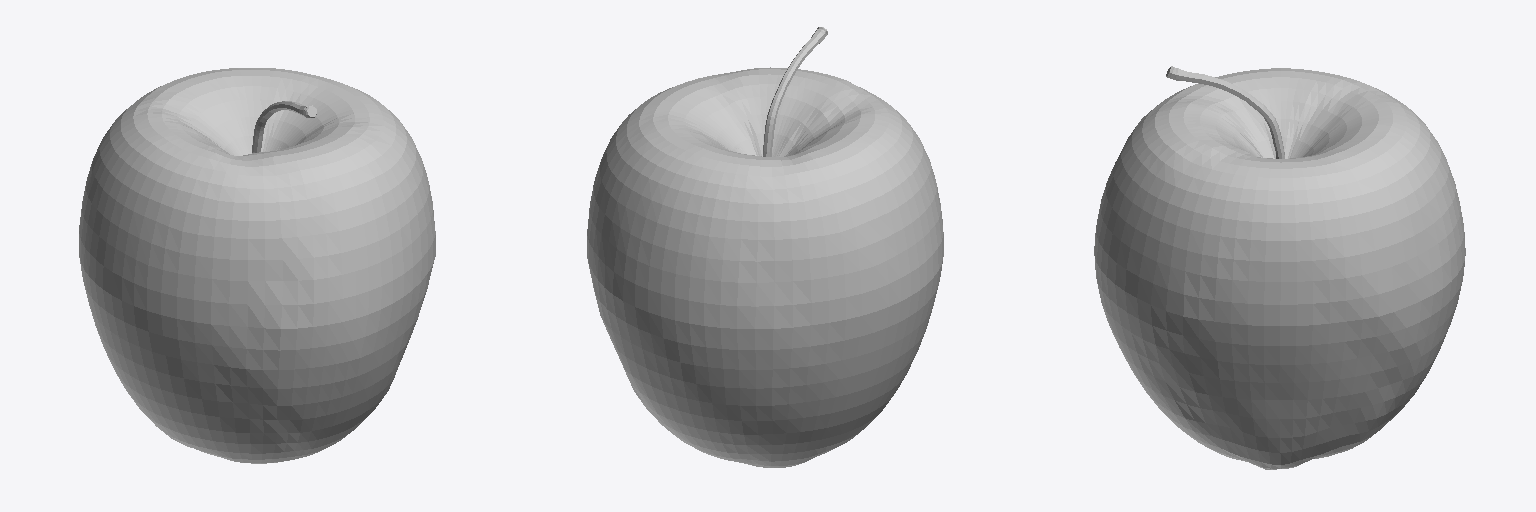
File: apple.obj
3 views of the same model, side by side, from view 1: azimuth 30°, elevation 25°; view 2: azimuth 150°, elevation 25°; view 3: azimuth 270°, elevation 25° (orthographic).
Visible parts, largest first — view 1: apple_skin, apple_stem; view 2: apple_skin, apple_stem; view 3: apple_skin, apple_stem.
Part boxes in pixels (bbox=[...]): apple_skin: bbox=[79, 68, 435, 463]; apple_stem: bbox=[252, 101, 316, 152]; apple_skin: bbox=[587, 67, 943, 467]; apple_stem: bbox=[763, 27, 827, 156]; apple_skin: bbox=[1094, 68, 1465, 469]; apple_stem: bbox=[1166, 66, 1284, 158].
Bounding box in the file's own units: 60.87 × 72.21 × 64.19.